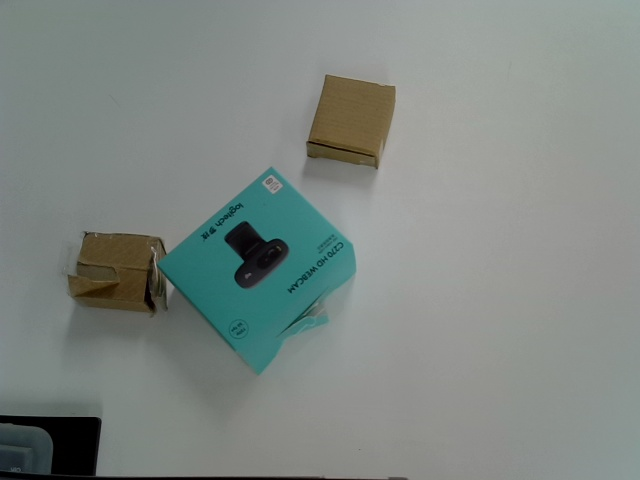defect: (64, 231, 171, 318)
normal: (306, 74, 397, 170)
